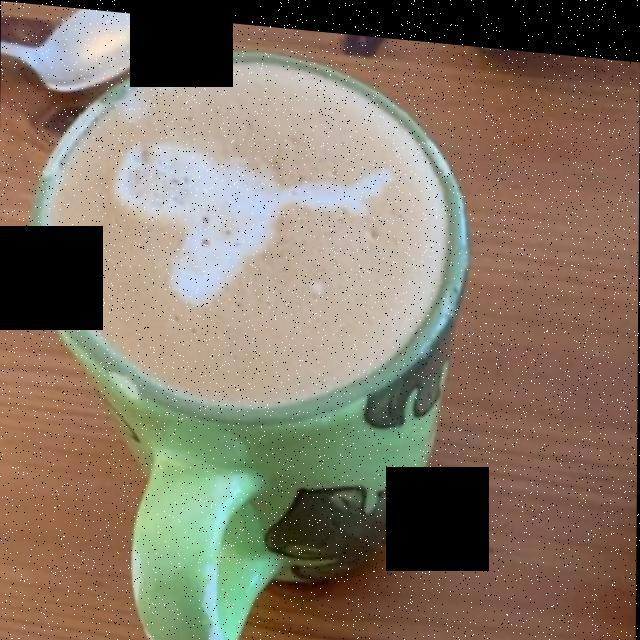coffee: (55, 58, 447, 393)
